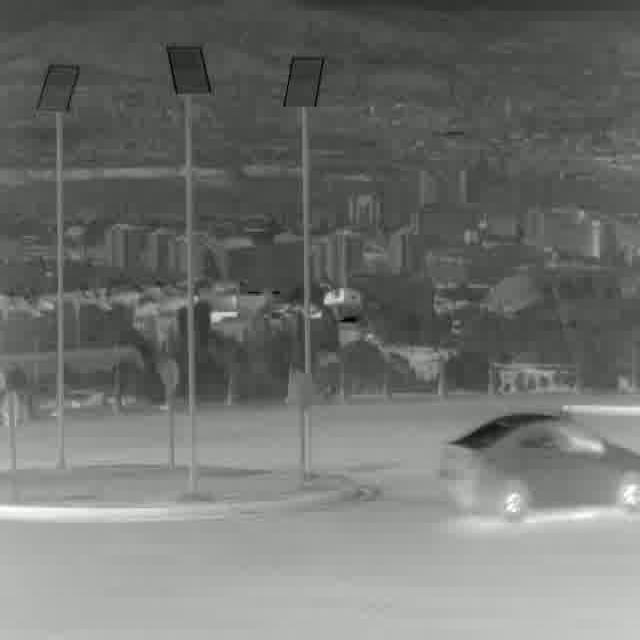Car: (440, 412, 640, 520)
